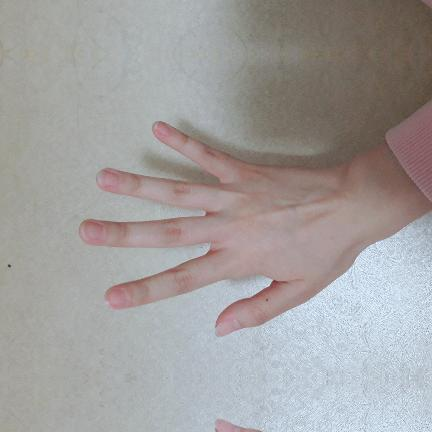Nail: (216, 317, 242, 340), (82, 221, 105, 243), (105, 289, 129, 308), (216, 416, 242, 432), (97, 170, 121, 187), (154, 121, 172, 136)
